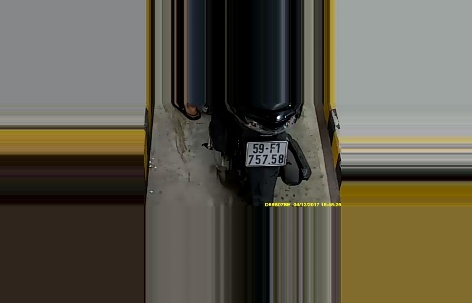plate: (244, 138, 286, 169)
